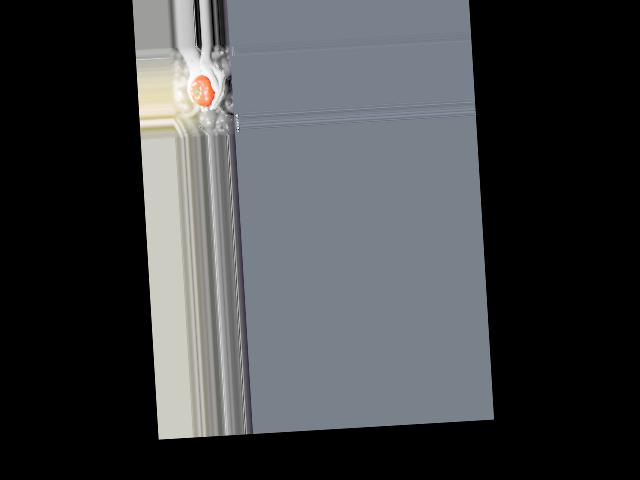tomato: (189, 73, 215, 107)
